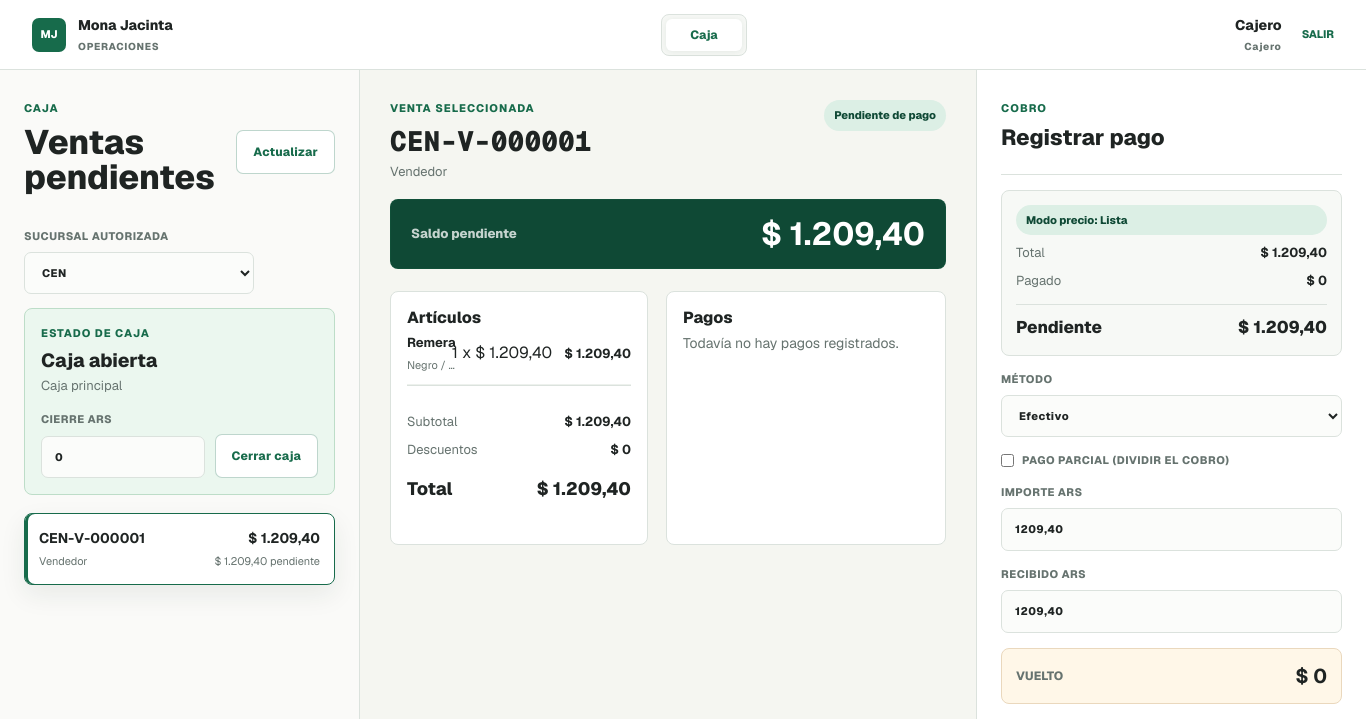
Test: cashier payment prefill is exact (H2) › M10 the change box shows exact centavos
Expected: the heading "CEN-V-000001" is shown, [390,124,592,157]
Replace the text in the field labelled "Recibido ARS" with "1300" at (1172, 612), box [1001,590,1342,633]
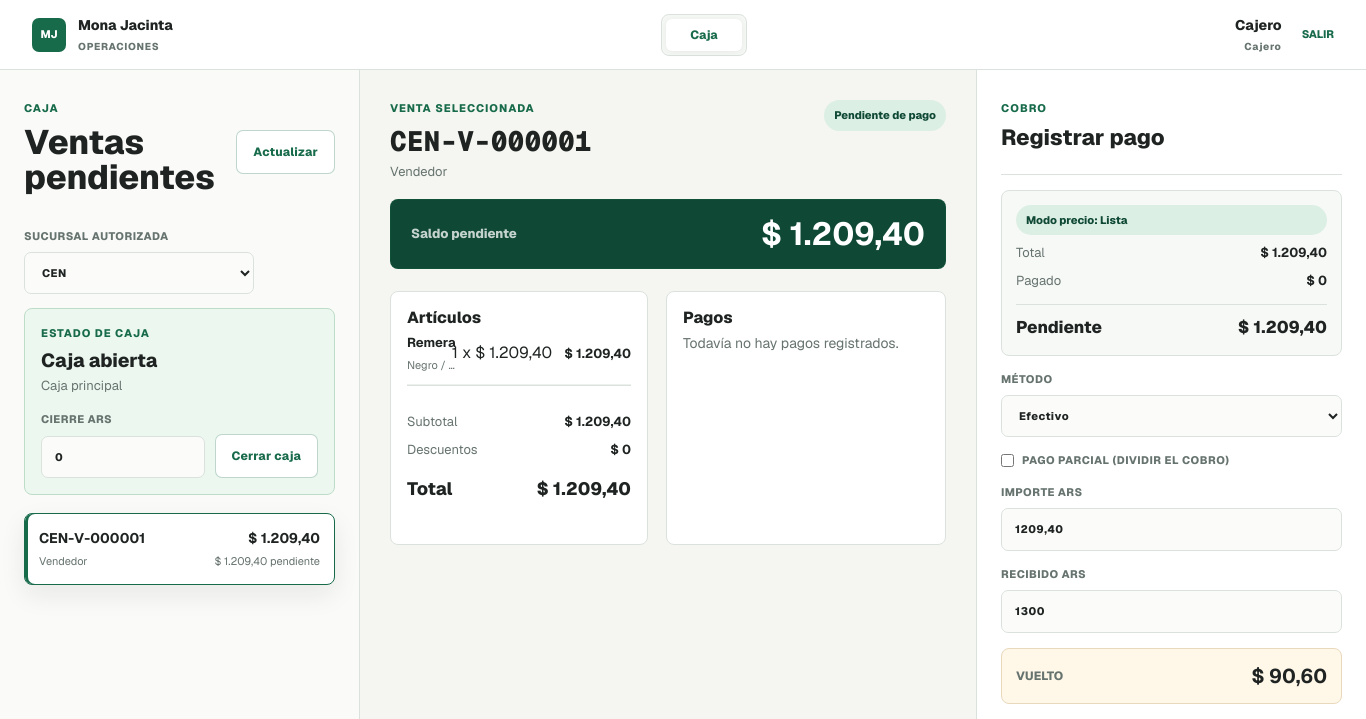
Expected: the text "$ 90,60" is shown, [1251,661,1327,691]
